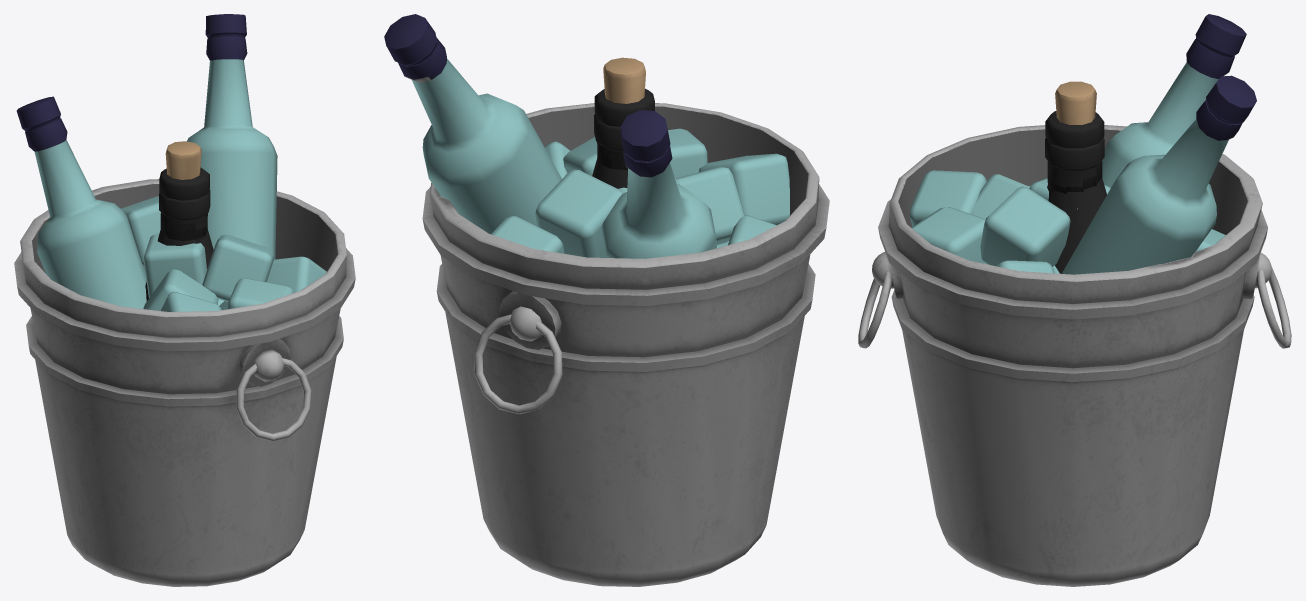
The model's file is kitbouteille.fbx.
3 renders of one model, left to right at view 1: azimuth 30°, elevation 25°; view 2: azimuth 150°, elevation 25°; view 3: azimuth 270°, elevation 25°, orthographic. The views are drawn at different scales.
Visible parts, largest first — view 1: Sceau, Bouteille03, Bouteille02, Bouteille06; view 2: Sceau, Bouteille02, Bouteille03; view 3: Sceau, Bouteille02, Bouteille03.
Part boxes in pixels (box(x1,y1,x2,y2)): Sceau: box(14, 14, 355, 586); Bouteille03: box(146, 167, 223, 305); Bouteille02: box(145, 141, 213, 301); Bouteille06: box(160, 212, 207, 240); Sceau: box(384, 14, 829, 586); Bouteille02: box(592, 57, 645, 188); Bouteille03: box(594, 88, 719, 248); Sceau: box(858, 14, 1291, 586); Bouteille02: box(1047, 81, 1106, 273); Bouteille03: box(1045, 111, 1104, 273).
Size of the model in its own units: 49.73 by 73.17 by 55.22.
